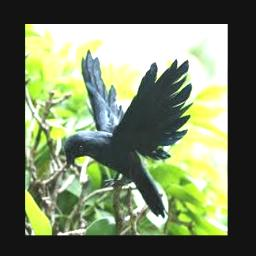Crow: (64, 48, 193, 219)
